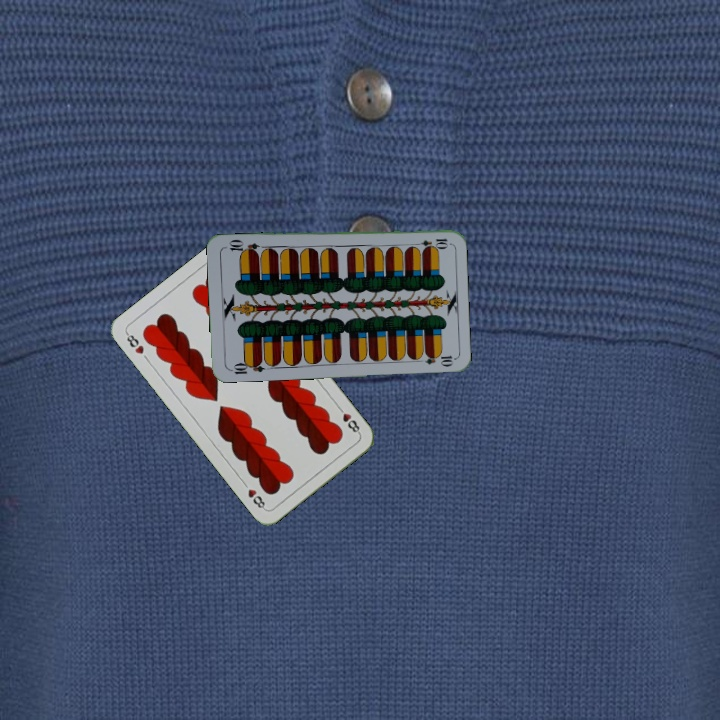E10: (226, 357, 266, 377), (410, 234, 450, 249)
H8: (333, 402, 363, 437), (122, 329, 146, 357)
